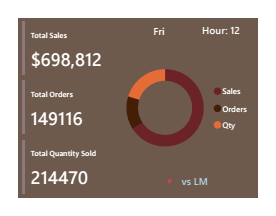

The dashboard page shown, as its layout file describes it:
{"tool":"powerbi","page":{"name":"Tool Tip - Hour Chart","canvas":[320,240],"ordinal":2},"visuals":[{"type":"cardVisual","fields":{"Data":["Transactions.Total Sales","Transactions.Total Orders","Transactions.Total Quantity Sold"]},"box":[0,0,175,240],"z":0},{"type":"donutChart","fields":{"Y":["Transactions.Total Sales","Transactions.Total Orders","Transactions.Total Quantity Sold"]},"box":[127,38,193,164],"z":1000},{"type":"card","fields":{"Values":["Transactions.MoM Growth & Diff Sales"]},"box":[127,202,193,37],"z":2000},{"type":"card","fields":{"Values":["Transactions.TT for Hour"]},"box":[223,0,97,37],"z":3000},{"type":"card","fields":{"Values":["Min(Date Table.Day Name)"]},"box":[140.4,1,97,37.4],"z":4000}]}

Visuals, with their boxes on the page's 320x240 design canvas (x1, y1, x2, y2). These are canvas units, not pixel positions in the 276x216 screenshot, which may show the page scaled, cropped or inside an application window:
cardVisual - Transactions.Total Sales x Transactions.Total Orders: x1=0 y1=0 x2=175 y2=240
donutChart - Transactions.Total Sales x Transactions.Total Orders: x1=127 y1=38 x2=320 y2=202
card - Transactions.MoM Growth & Diff Sales: x1=127 y1=202 x2=320 y2=239
card - Transactions.TT for Hour: x1=223 y1=0 x2=320 y2=37
card - Min(Date Table.Day Name): x1=140 y1=1 x2=237 y2=38
